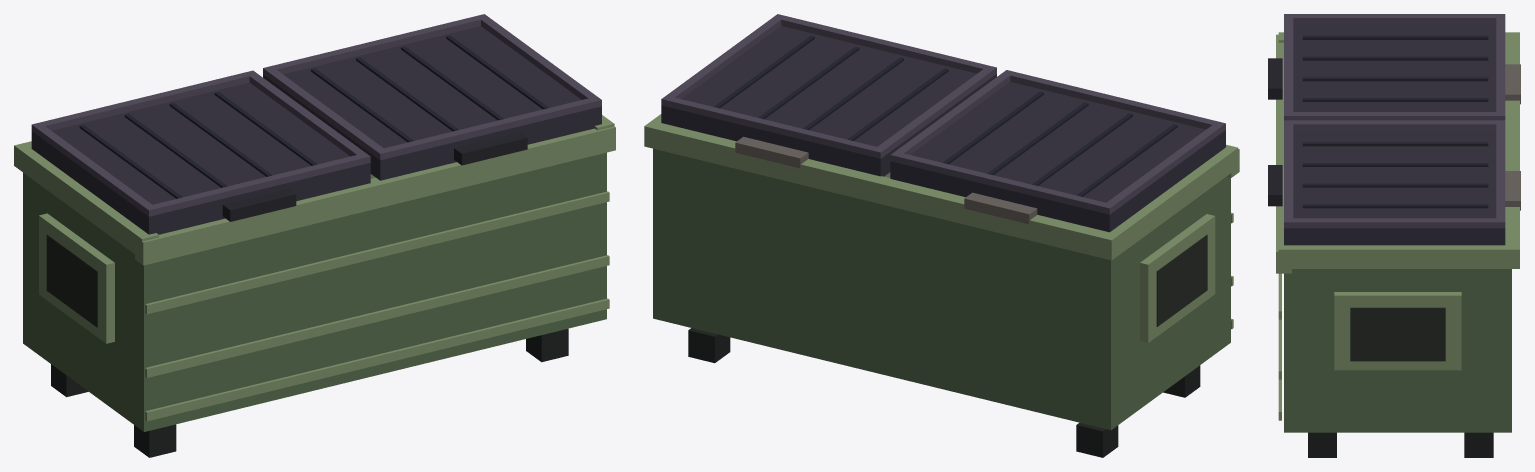
The model's file is CMU3DGreenDumpster.glb.
The picture shows the model from 3 angles, left to right: view 1: azimuth 30°, elevation 25°; view 2: azimuth 150°, elevation 25°; view 3: azimuth 270°, elevation 25°; orthographic projection. The views are drawn at different scales.
Visible parts, largest first — view 1: lower bin shell, dark closed lid (×2), front strengthening rib (×3), front rolled rim, lid end border (×4), lid side border (×4), lid recessed rib (×8), side lift socket, bin side rim, socket dark recess, lid front handle (×2), caster wheel (×3); view 2: lower bin shell, dark closed lid (×2), rear top lip, lid end border (×4), lid side border (×4), lid recessed rib (×8), side lift socket, bin side rim, caster wheel (×3), socket dark recess, rear hinge (×2); view 3: dark closed lid (×2), lower bin shell, lid side border (×4), lid recessed rib (×8), bin side rim, socket dark recess, side lift socket, lid end border (×4), rear top lip, caster wheel (×2), front rolled rim, lid front handle (×2) (+1 smaller).
Part boxes in pixels (left/top/right/bottom): lower bin shell: left=23, top=152, right=606, bottom=431; dark closed lid (×2): left=31, top=26, right=601, bottom=234; front strengthening rib (×3): left=145, top=191, right=609, bottom=421; front rolled rim: left=135, top=126, right=615, bottom=265; lid end border (×4): left=40, top=16, right=593, bottom=214; lid side border (×4): left=31, top=14, right=601, bottom=216; lid recessed rib (×8): left=79, top=35, right=548, bottom=198; side lift socket: left=39, top=213, right=114, bottom=343; bin side rim: left=21, top=149, right=158, bottom=258; socket dark recess: left=46, top=234, right=97, bottom=327; lid front handle (×2): left=222, top=132, right=527, bottom=221; caster wheel (×3): left=51, top=329, right=568, bottom=457; lower bin shell: left=653, top=148, right=1230, bottom=430; dark closed lid (×2): left=661, top=26, right=1225, bottom=232; rear top lip: left=644, top=120, right=1119, bottom=260; lid end border (×4): left=670, top=16, right=1216, bottom=212; lid side border (×4): left=661, top=14, right=1225, bottom=214; lid recessed rib (×8): left=714, top=35, right=1177, bottom=196; side lift socket: left=1140, top=214, right=1215, bottom=342; bin side rim: left=1102, top=144, right=1238, bottom=254; caster wheel (×3): left=688, top=328, right=1200, bottom=457; socket dark recess: left=1156, top=234, right=1207, bottom=326; rear hinge (×2): left=735, top=136, right=1037, bottom=224; dark closed lid (×2): left=1284, top=24, right=1505, bottom=245; lower bin shell: left=1284, top=269, right=1511, bottom=432; lid side border (×4): left=1284, top=14, right=1505, bottom=228; lid recessed rib (×8): left=1302, top=35, right=1488, bottom=208; bin side rim: left=1278, top=242, right=1506, bottom=268; socket dark recess: left=1350, top=307, right=1445, bottom=361; side lift socket: left=1334, top=292, right=1461, bottom=370; lid end border (×4): left=1284, top=18, right=1505, bottom=218; rear top lip: left=1504, top=32, right=1519, bottom=268; caster wheel (×2): left=1308, top=432, right=1493, bottom=457; front rolled rim: left=1276, top=34, right=1291, bottom=273; lid front handle (×2): left=1268, top=58, right=1282, bottom=206.
Bounding box in the file's own units: 2 × 1.02 × 0.953.
